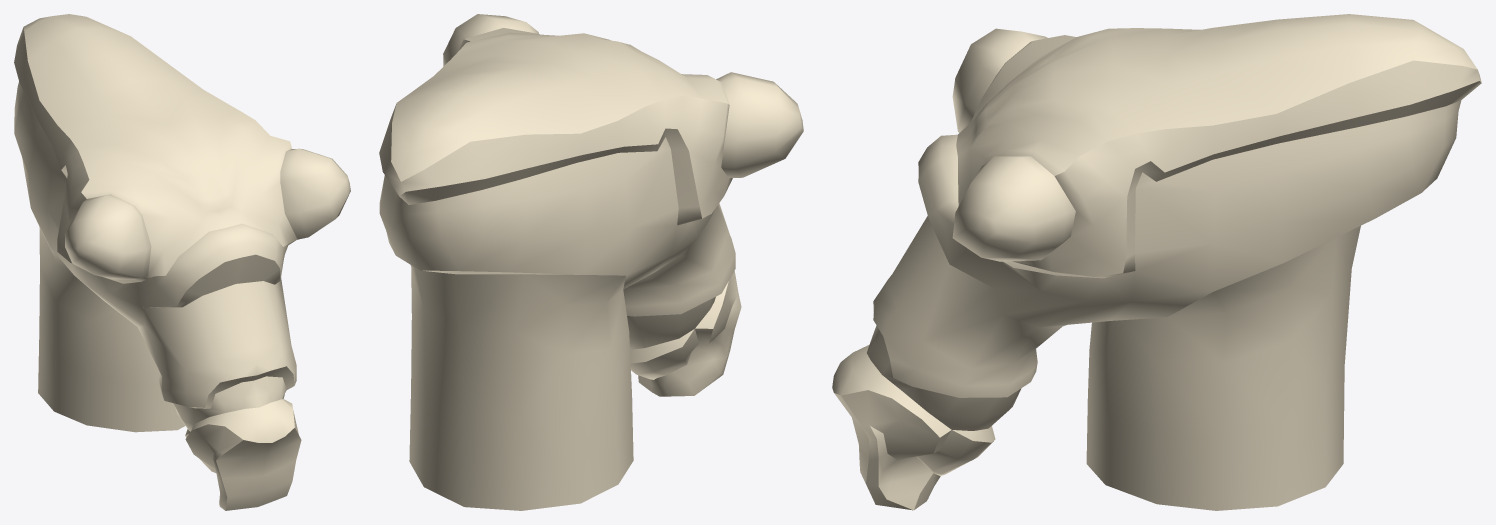
File: Geonosian.gltf
3 renders of one model, left to right at view 1: azimuth 30°, elevation 25°; view 2: azimuth 150°, elevation 25°; view 3: azimuth 270°, elevation 25°, orthographic. The views are drawn at different scales.
Parts seen in each view (by area): view 1: Object.002; view 2: Object.002; view 3: Object.002.
Part boxes in pixels (box(x1,y1,x2,y2)): Object.002: box(14, 14, 350, 510); Object.002: box(379, 14, 803, 510); Object.002: box(832, 14, 1481, 510).
Size of the model in its own units: 0.6148 by 0.7592 by 0.9371.
